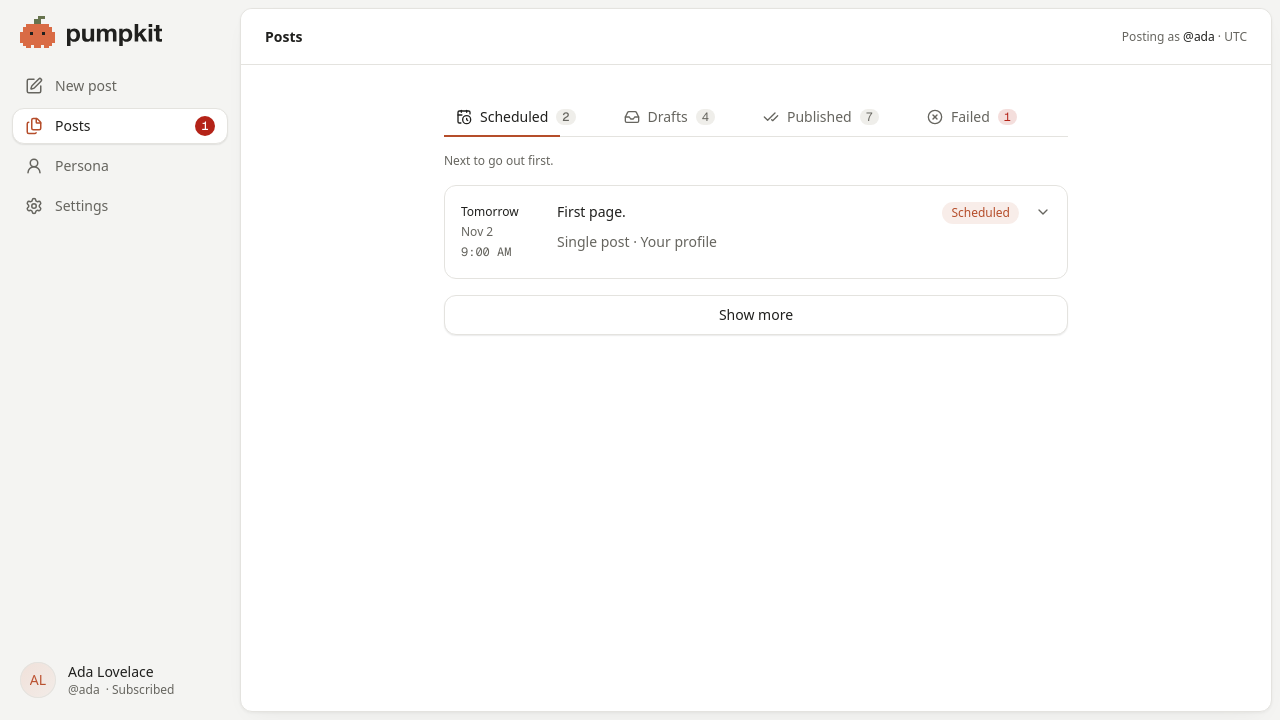
Test: Posts page › shows more Posts at the end of a long tab until the last page
The width and height of the screenshot is (1280, 720).
What coordinates should you click on to do the following:
click the button "Show more"
I would click on:
 (756, 315)
Its box is [444,295,1068,335].
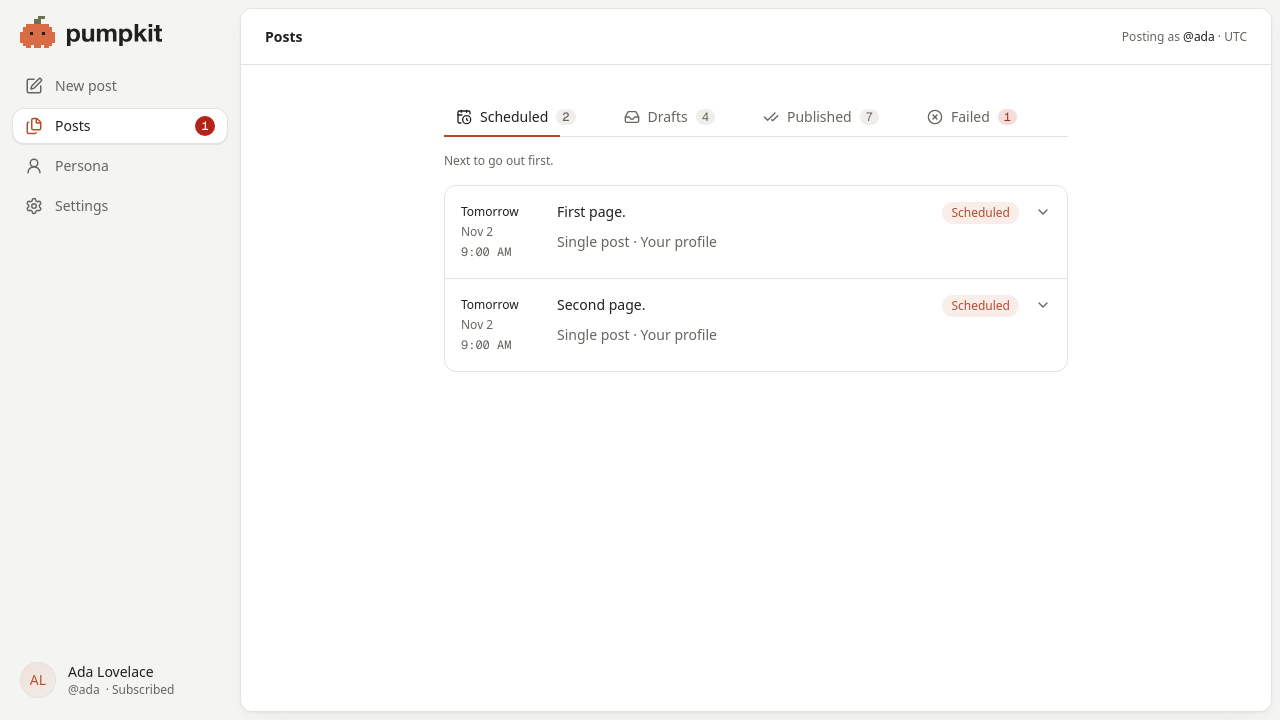
expect the list item "First page." is shown: met, box [445,186,1067,278]
expect the button "Show more" is gone: met
